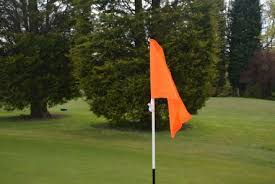Flag: (149, 39, 192, 141)
